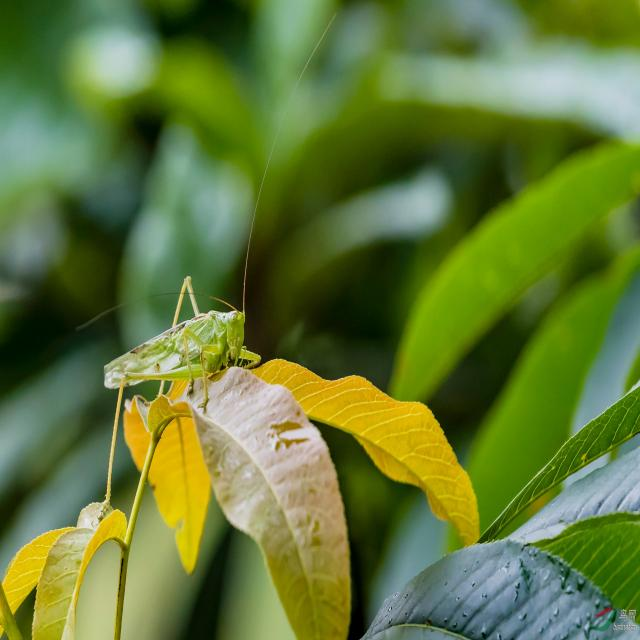ZhaMeng: (78, 261, 305, 413)
